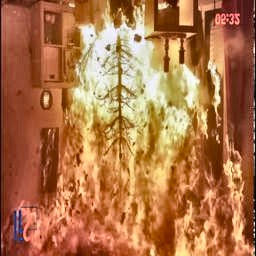fire: (3, 26, 255, 256)
